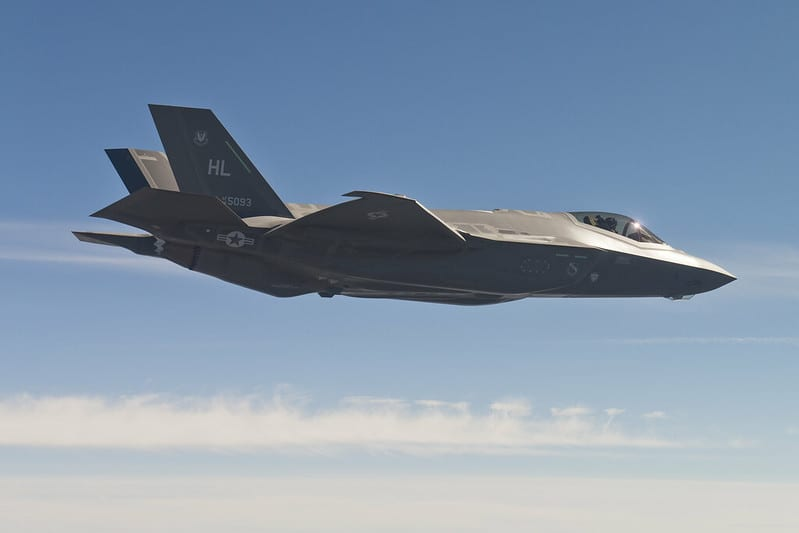F-35 Lightning: (66, 79, 755, 371)
